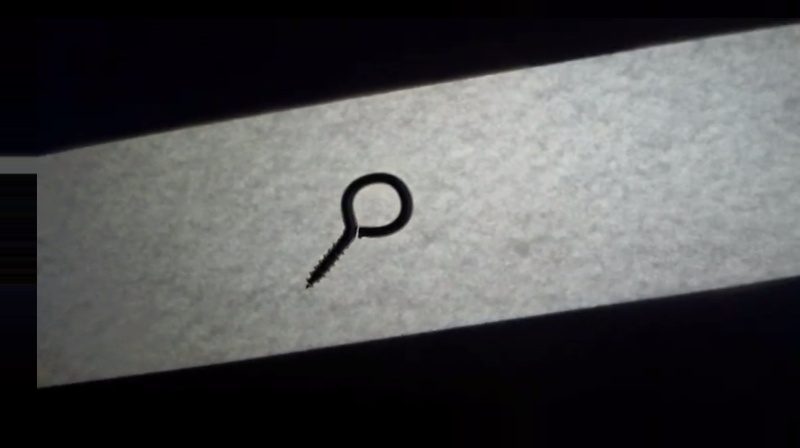O001: (304, 170, 415, 294)
